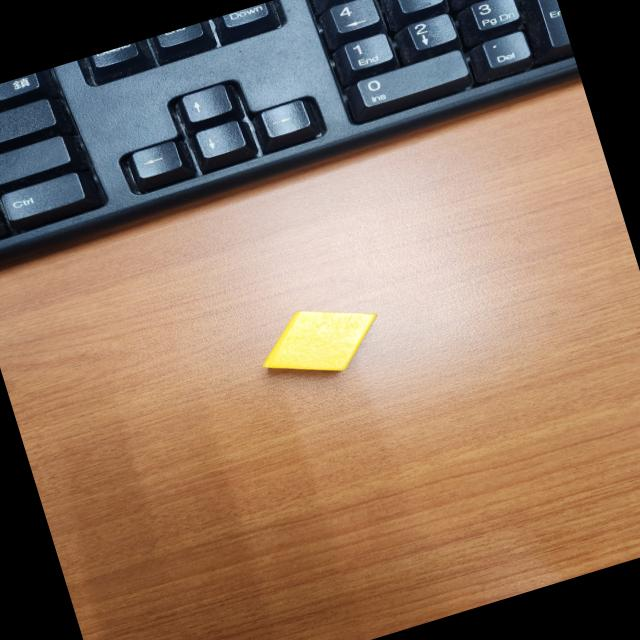yellow: (248, 288, 392, 392)
